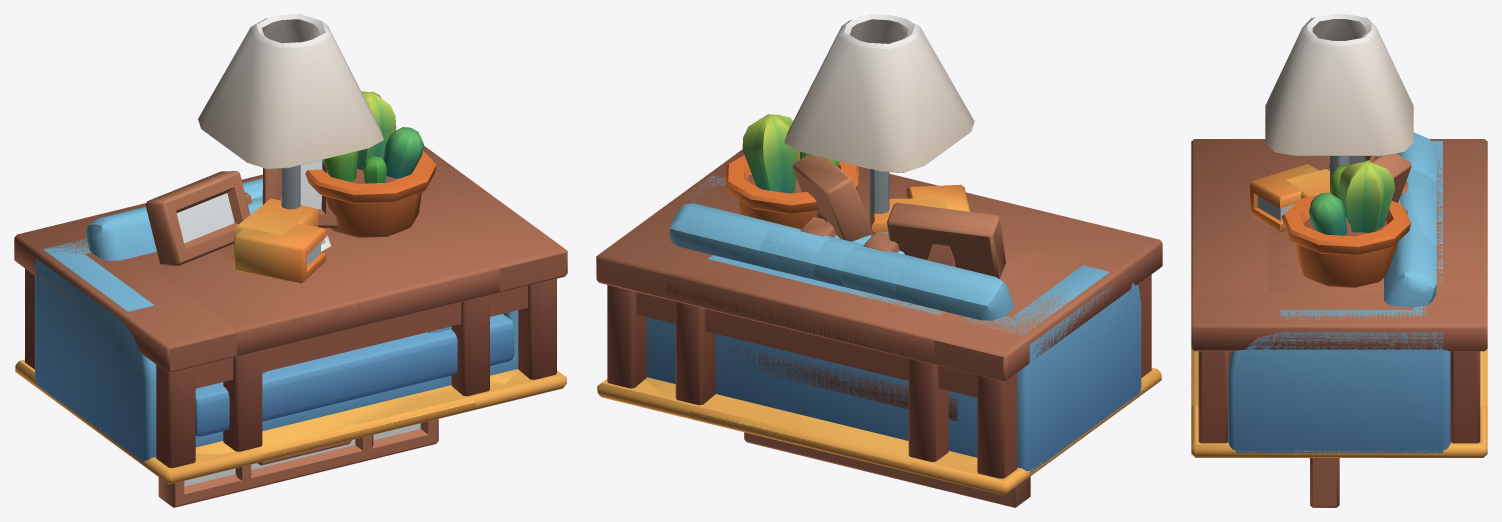
The model's file is kit-furniture-bits.glb.
The picture shows the model from 3 angles, left to right: view 1: azimuth 30°, elevation 25°; view 2: azimuth 150°, elevation 25°; view 3: azimuth 270°, elevation 25°; orthographic projection. The views are drawn at different scales.
Visible parts, largest first — view 1: table_medium_long, couch, table_medium, lamp_standing, cabinet_medium_decorated, rug_rectangle_A, armchair, cabinet_small_decorated, rug_oval_A, pictureframe_large_B, pictureframe_large_A, rug_rectangle_stripes_A; view 2: table_medium_long, couch, table_medium, lamp_standing, armchair, cabinet_medium_decorated, rug_rectangle_A, rug_oval_A, cabinet_small_decorated, table_low, pictureframe_large_B, rug_rectangle_stripes_A (+2 smaller); view 3: table_medium_long, couch, lamp_standing, table_medium, cabinet_medium_decorated, cabinet_small_decorated, rug_rectangle_A, armchair, cabinet_medium, pictureframe_large_B, rug_oval_A, cabinet_small.
Part boxes in pixels (<box>): table_medium_long: <box>14,146,567,467</box>; couch: <box>35,155,518,462</box>; table_medium: <box>138,175,499,451</box>; lamp_standing: <box>198,14,383,209</box>; cabinet_medium_decorated: <box>145,91,436,266</box>; rug_rectangle_A: <box>15,360,566,484</box>; armchair: <box>202,178,451,431</box>; cabinet_small_decorated: <box>234,160,339,283</box>; rug_oval_A: <box>66,369,519,460</box>; pictureframe_large_B: <box>158,419,438,507</box>; pictureframe_large_A: <box>235,435,373,488</box>; rug_rectangle_stripes_A: <box>22,359,561,469</box>; table_medium_long: <box>596,149,1162,478</box>; couch: <box>646,175,1141,473</box>; table_medium: <box>666,166,1062,461</box>; lamp_standing: <box>784,14,974,233</box>; armchair: <box>708,228,1005,440</box>; cabinet_medium_decorated: <box>725,114,1005,279</box>; rug_rectangle_A: <box>597,367,1161,495</box>; rug_oval_A: <box>645,377,1106,470</box>; cabinet_small_decorated: <box>792,155,970,241</box>; table_low: <box>720,344,957,420</box>; pictureframe_large_B: <box>744,432,1030,507</box>; rug_rectangle_stripes_A: <box>602,368,1156,480</box>; table_medium_long: <box>1191,139,1487,443</box>; couch: <box>1228,132,1450,453</box>; lamp_standing: <box>1265,14,1413,191</box>; table_medium: <box>1191,170,1487,295</box>; cabinet_medium_decorated: <box>1281,156,1410,287</box>; cabinet_small_decorated: <box>1250,153,1411,231</box>; rug_rectangle_A: <box>1191,351,1487,457</box>; armchair: <box>1311,170,1442,284</box>; cabinet_medium: <box>1268,170,1383,292</box>; pictureframe_large_B: <box>1310,458,1339,507</box>; rug_oval_A: <box>1191,349,1487,457</box>; cabinet_small: <box>1268,231,1298,261</box>.
Size of the model in its own units: 3 by 3.12 by 2.
Materials: 1 (1 with a texture image).
